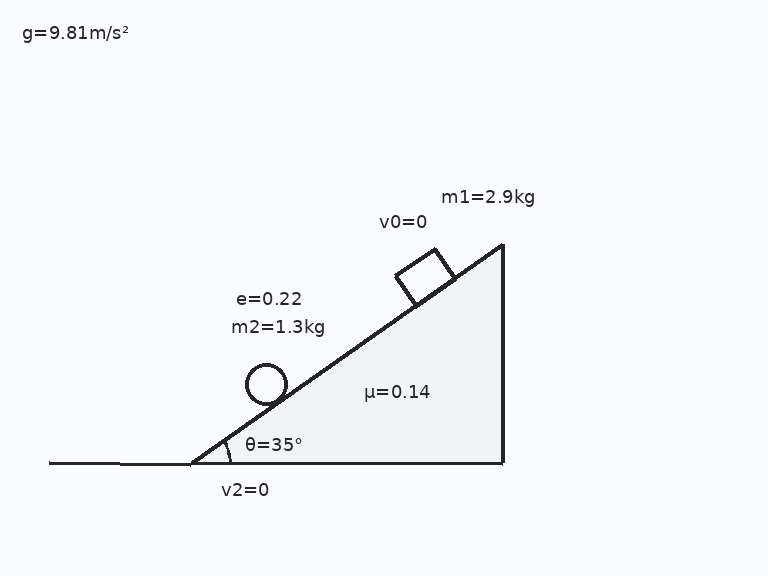ball: (243, 361, 289, 407)
block: (392, 246, 457, 307)
ramp: (188, 242, 504, 465)
